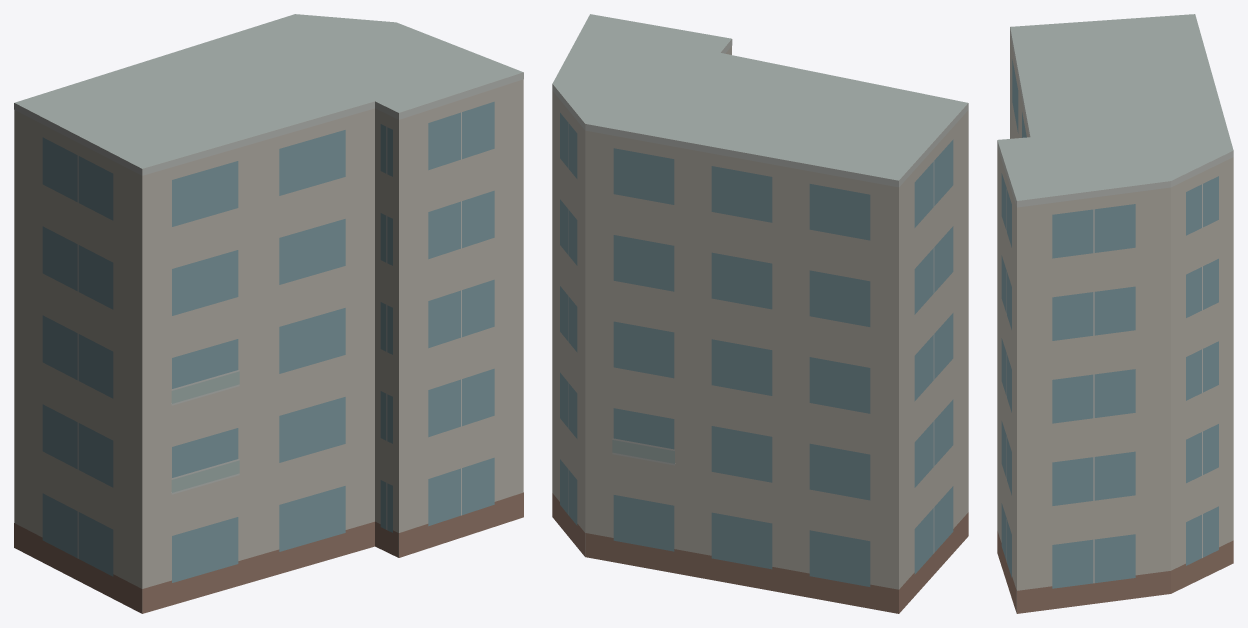
Rendered from survey-upis-33023635.glb.
3 views of the same model, side by side, from view 1: azimuth 30°, elevation 25°; view 2: azimuth 150°, elevation 25°; view 3: azimuth 270°, elevation 25° (orthographic). The views are drawn at different scales.
Visible parts, largest first — view 1: survey-upis-33023635.tmp; view 2: survey-upis-33023635.tmp; view 3: survey-upis-33023635.tmp.
Boxes of the visible parts, x1=… form: survey-upis-33023635.tmp: x1=14, y1=14, x2=523, y2=613; survey-upis-33023635.tmp: x1=552, y1=14, x2=968, y2=613; survey-upis-33023635.tmp: x1=997, y1=14, x2=1233, y2=613.
Bounding box in the file's own units: 15.18 × 15.6 × 8.11.
